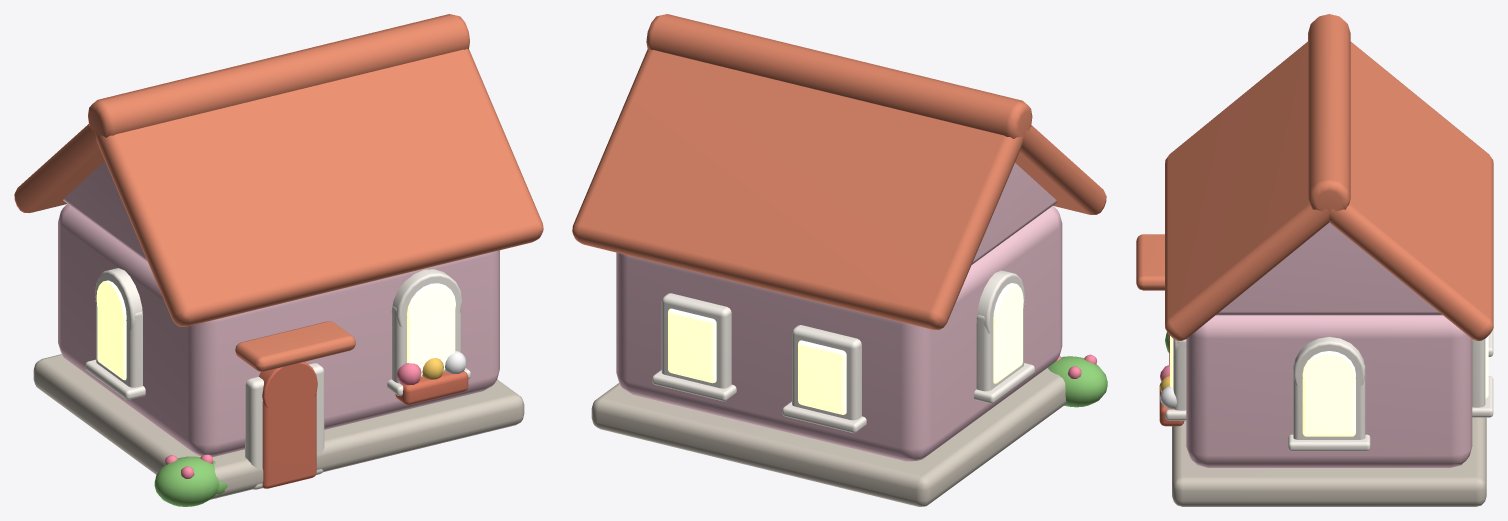
3 renders of one model, left to right at view 1: azimuth 30°, elevation 25°; view 2: azimuth 150°, elevation 25°; view 3: azimuth 270°, elevation 25°, orthographic. The views are drawn at different scales.
Parts seen in each view (by area): view 1: Cube; view 2: Cube; view 3: Cube.
Boxes of the visible parts, x1=… form: Cube: x1=14, y1=14, x2=543, y2=506; Cube: x1=572, y1=14, x2=1107, y2=506; Cube: x1=1136, y1=14, x2=1493, y2=506.
Size of the model in its own units: 0.583 by 0.525 by 0.4999.
